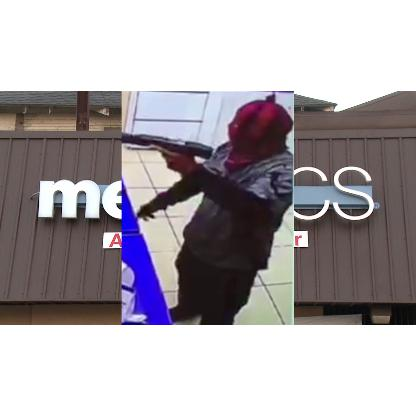gun: (122, 133, 210, 173)
